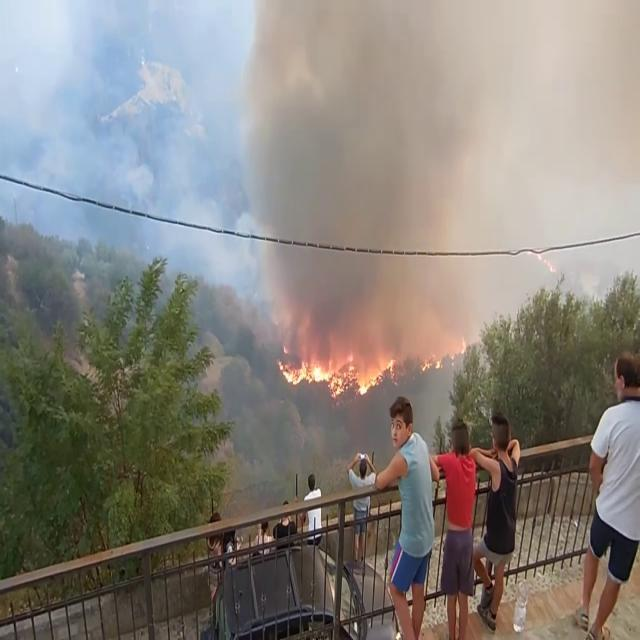Fire: (280, 346, 394, 396)
Smoke: (228, 0, 502, 348)
